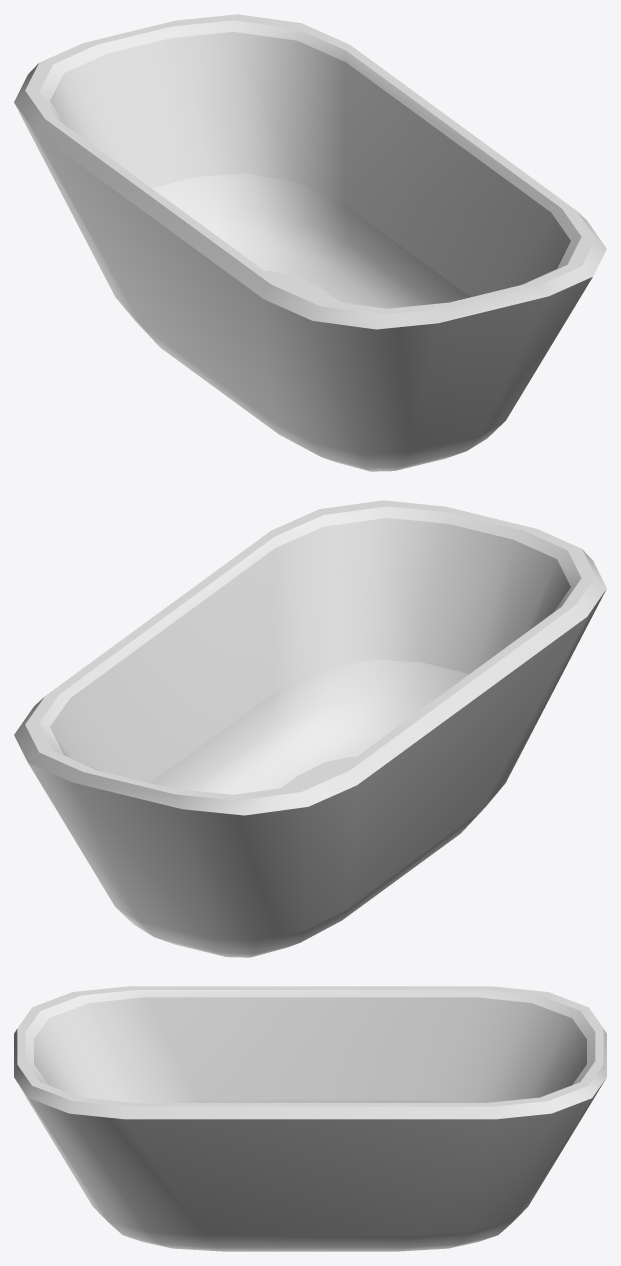
File: Kuvet.fbx
3 renders of one model, top to bottom at view 1: azimuth 30°, elevation 25°; view 2: azimuth 150°, elevation 25°; view 3: azimuth 270°, elevation 25°, orthographic. The views are drawn at different scales.
Parts seen in each view (by area): view 1: Cube; view 2: Cube; view 3: Cube.
Part boxes in pixels (<box>): Cube: <box>14,14,606,471</box>; Cube: <box>14,500,606,957</box>; Cube: <box>14,986,606,1251</box>.
Size of the model in its own units: 154 by 103 by 303.
